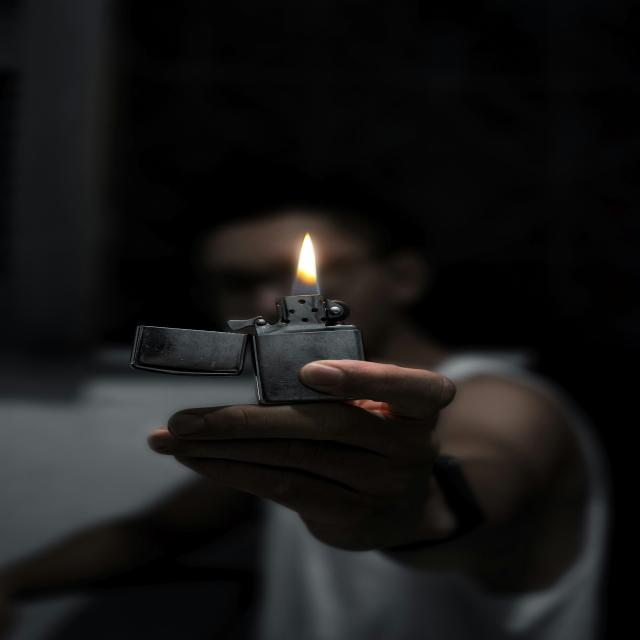fire: (292, 232, 320, 295)
